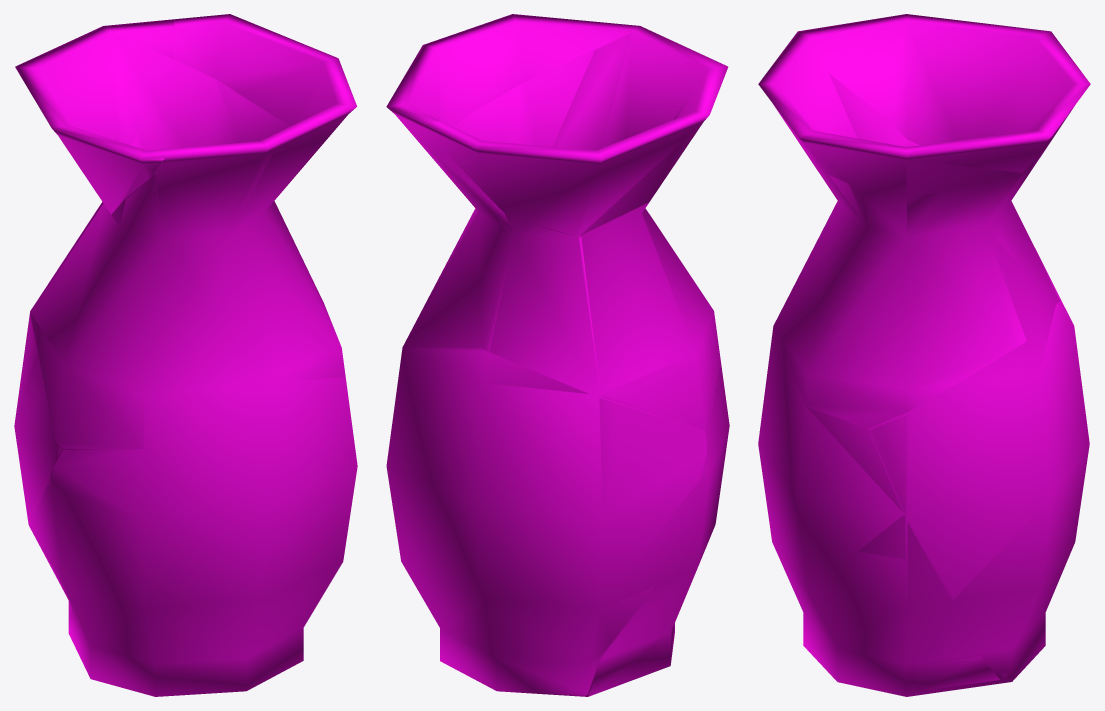
File: Vase - Proxy.fbx
The picture shows the model from 3 angles, left to right: view 1: azimuth 30°, elevation 25°; view 2: azimuth 150°, elevation 25°; view 3: azimuth 270°, elevation 25°; orthographic projection.
Visible parts, largest first — view 1: Vase, Vase_cell.001, Vase_cell.002, Vase_cell.003, Vase_cell, Vase_cell.004; view 2: Vase, Vase_cell, Vase_cell.002, Vase_cell.003, Vase_cell.001, Vase_cell.004; view 3: Vase, Vase_cell.002, Vase_cell, Vase_cell.001, Vase_cell.003.
Part boxes in pixels (x1=…): Vase: x1=15, y1=19, x2=357, y2=690; Vase_cell.001: x1=48, y1=418, x2=268, y2=696; Vase_cell.002: x1=30, y1=81, x2=345, y2=448; Vase_cell.003: x1=173, y1=14, x2=356, y2=151; Vase_cell: x1=14, y1=315, x2=71, y2=628; Vase_cell.004: x1=37, y1=27, x2=174, y2=302; Vase: x1=386, y1=14, x2=728, y2=696; Vase_cell: x1=403, y1=347, x2=706, y2=696; Vase_cell.002: x1=419, y1=33, x2=720, y2=429; Vase_cell.003: x1=386, y1=14, x2=630, y2=127; Vase_cell.001: x1=588, y1=362, x2=729, y2=696; Vase_cell.004: x1=474, y1=115, x2=708, y2=390; Vase: x1=758, y1=14, x2=1090, y2=696; Vase_cell.002: x1=773, y1=73, x2=1060, y2=428; Vase_cell: x1=869, y1=300, x2=1073, y2=681; Vase_cell.001: x1=806, y1=406, x2=999, y2=691; Vase_cell.003: x1=791, y1=110, x2=1068, y2=198.
Bounding box in the file's own units: 57.66 × 108 × 57.75.
